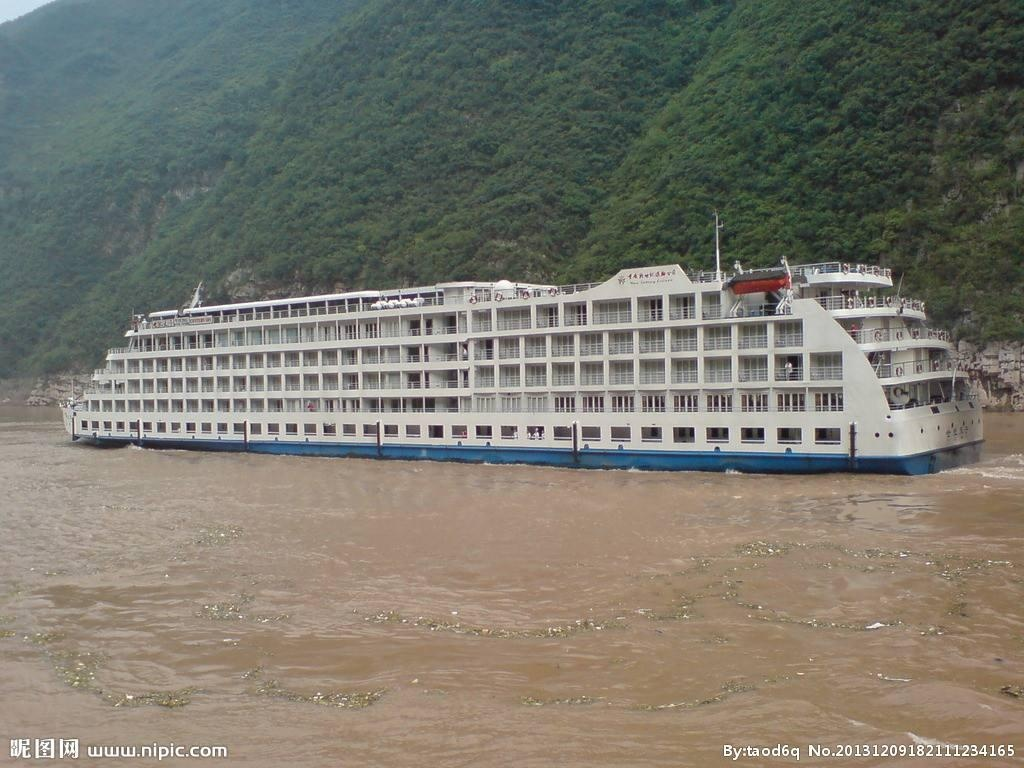youlun: (64, 245, 981, 448)
